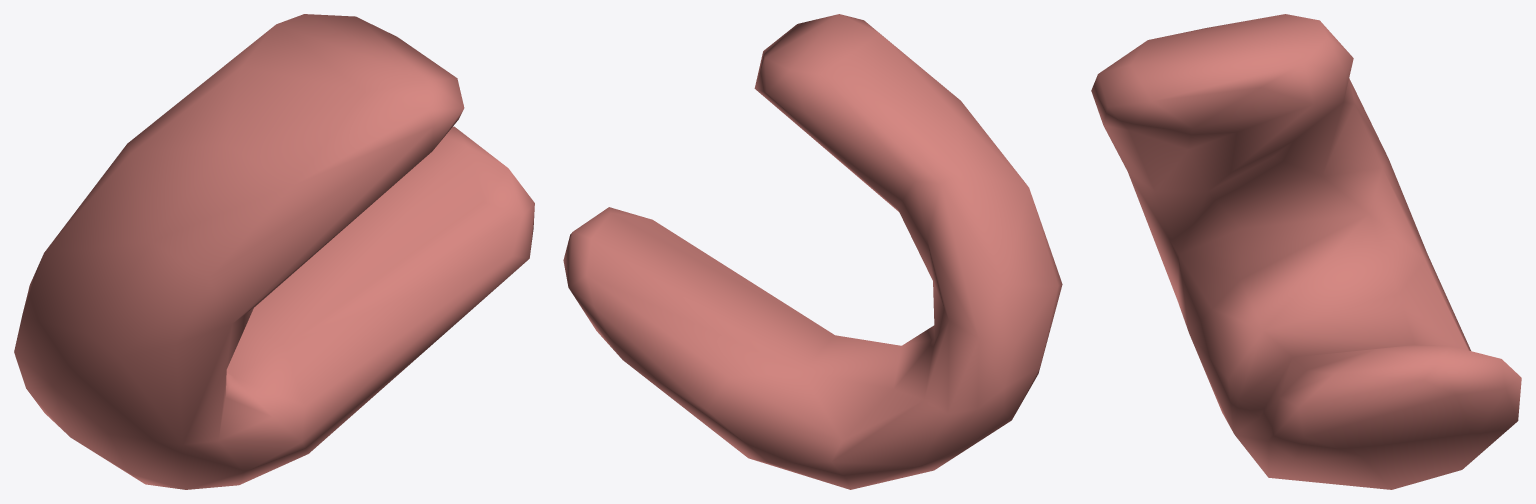
3 renders of one model, left to right at view 1: azimuth 30°, elevation 25°; view 2: azimuth 150°, elevation 25°; view 3: azimuth 270°, elevation 25°, orthographic. The views are drawn at different scales.
Visible parts, largest first — view 1: ZA_87ea7339242f65a2; view 2: ZA_87ea7339242f65a2; view 3: ZA_87ea7339242f65a2.
Part boxes in pixels (x1,y1,x2,y2): ZA_87ea7339242f65a2: (14, 14, 534, 489); ZA_87ea7339242f65a2: (563, 14, 1062, 489); ZA_87ea7339242f65a2: (1091, 14, 1521, 489).
Bounding box in the file's own units: 0.00422 × 0.00361 × 0.00294.
